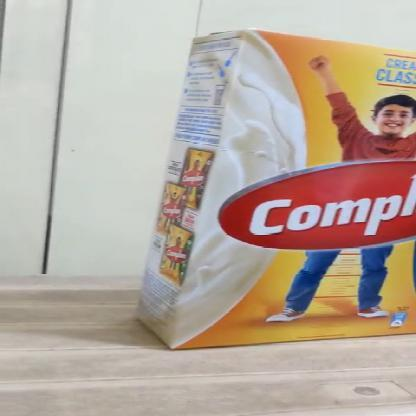Complan Classic Creme: (188, 41, 415, 350)
